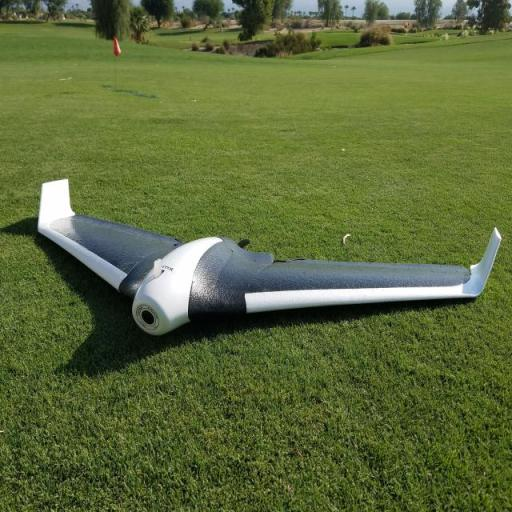uav: (28, 169, 498, 356)
